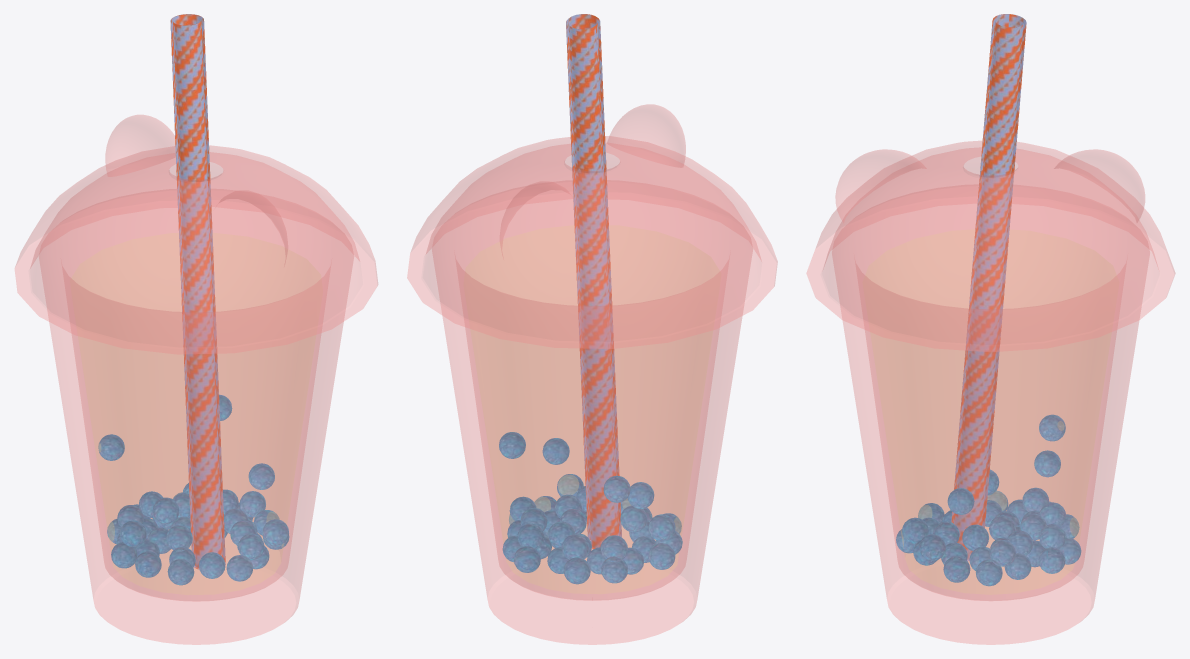
3 renders of one model, left to right at view 1: azimuth 30°, elevation 25°; view 2: azimuth 150°, elevation 25°; view 3: azimuth 270°, elevation 25°, orthographic.
Parts seen in each view (by area): view 1: gobelet, couvercle, liquide, paille, polySurface3, polySurface22, polySurface38, polySurface16, polySurface39, polySurface21, polySurface2, polySurface17 (+5 smaller); view 2: gobelet, couvercle, liquide, paille, polySurface16, polySurface37, polySurface25, polySurface19, polySurface24, polySurface21, polySurface1, polySurface10 (+5 smaller); view 3: gobelet, couvercle, liquide, paille, polySurface4, polySurface22, polySurface24, polySurface18, polySurface21, polySurface25, polySurface33, polySurface26 (+3 smaller).
Part boxes in pixels (x1=…): gobelet: x1=39, y1=189, x2=353, y2=644; couvercle: x1=14, y1=115, x2=378, y2=354; liquide: x1=71, y1=233, x2=320, y2=594; paille: x1=170, y1=14, x2=225, y2=569; polySurface3: x1=135, y1=551, x2=161, y2=577; polySurface22: x1=262, y1=519, x2=288, y2=545; polySurface38: x1=199, y1=552, x2=225, y2=578; polySurface16: x1=120, y1=520, x2=146, y2=546; polySurface39: x1=226, y1=555, x2=252, y2=581; polySurface21: x1=248, y1=463, x2=274, y2=489; polySurface2: x1=167, y1=559, x2=194, y2=585; polySurface17: x1=153, y1=497, x2=179, y2=523; gobelet: x1=432, y1=180, x2=752, y2=644; couvercle: x1=407, y1=104, x2=777, y2=348; liquide: x1=465, y1=225, x2=719, y2=593; paille: x1=566, y1=14, x2=621, y2=548; polySurface16: x1=648, y1=514, x2=675, y2=541; polySurface37: x1=563, y1=557, x2=590, y2=584; polySurface25: x1=499, y1=432, x2=525, y2=458; polySurface19: x1=514, y1=546, x2=540, y2=572; polySurface24: x1=603, y1=475, x2=630, y2=502; polySurface21: x1=542, y1=438, x2=569, y2=464; polySurface1: x1=648, y1=543, x2=675, y2=569; polySurface10: x1=601, y1=556, x2=627, y2=583; gobelet: x1=832, y1=184, x2=1149, y2=644; couvercle: x1=806, y1=141, x2=1175, y2=351; liquide: x1=865, y1=230, x2=1116, y2=594; paille: x1=951, y1=14, x2=1026, y2=560; polySurface4: x1=943, y1=556, x2=970, y2=582; polySurface22: x1=919, y1=534, x2=946, y2=560; polySurface24: x1=1039, y1=414, x2=1065, y2=441; polySurface18: x1=1038, y1=547, x2=1065, y2=573; polySurface21: x1=947, y1=488, x2=974, y2=514; polySurface25: x1=1034, y1=450, x2=1060, y2=477; polySurface33: x1=976, y1=559, x2=1002, y2=586; polySurface26: x1=989, y1=540, x2=1015, y2=566.
Bounding box in the file's own units: 49.92 × 86.84 × 49.92.
Materials: 4 (4 with a texture image).
